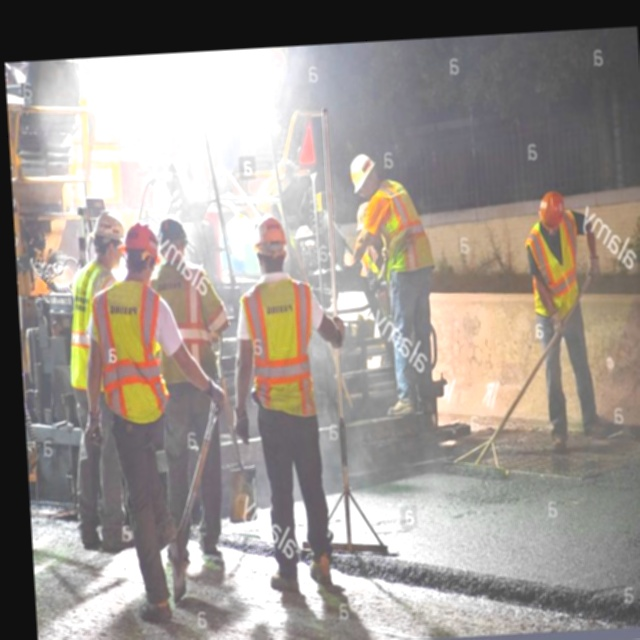Con_Casco: (252, 214, 289, 273), (535, 187, 564, 237), (349, 152, 378, 201)
Con_Chaleco: (241, 275, 315, 408), (95, 284, 167, 418), (368, 175, 425, 269)
